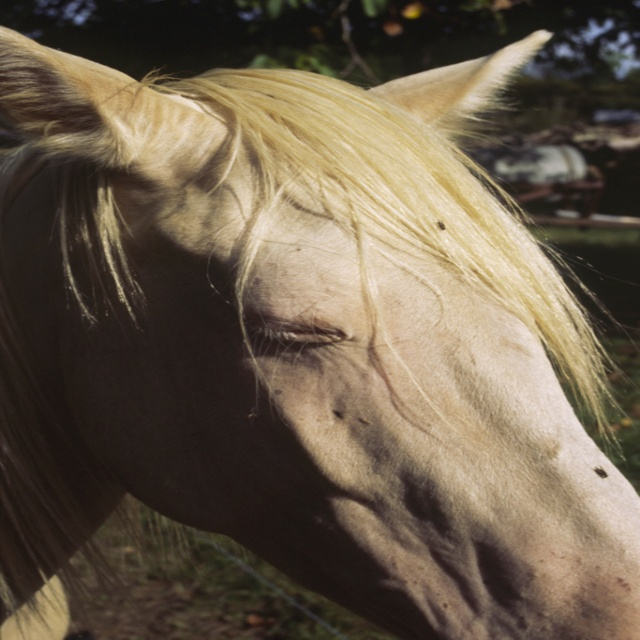Horse: (0, 25, 639, 639)
